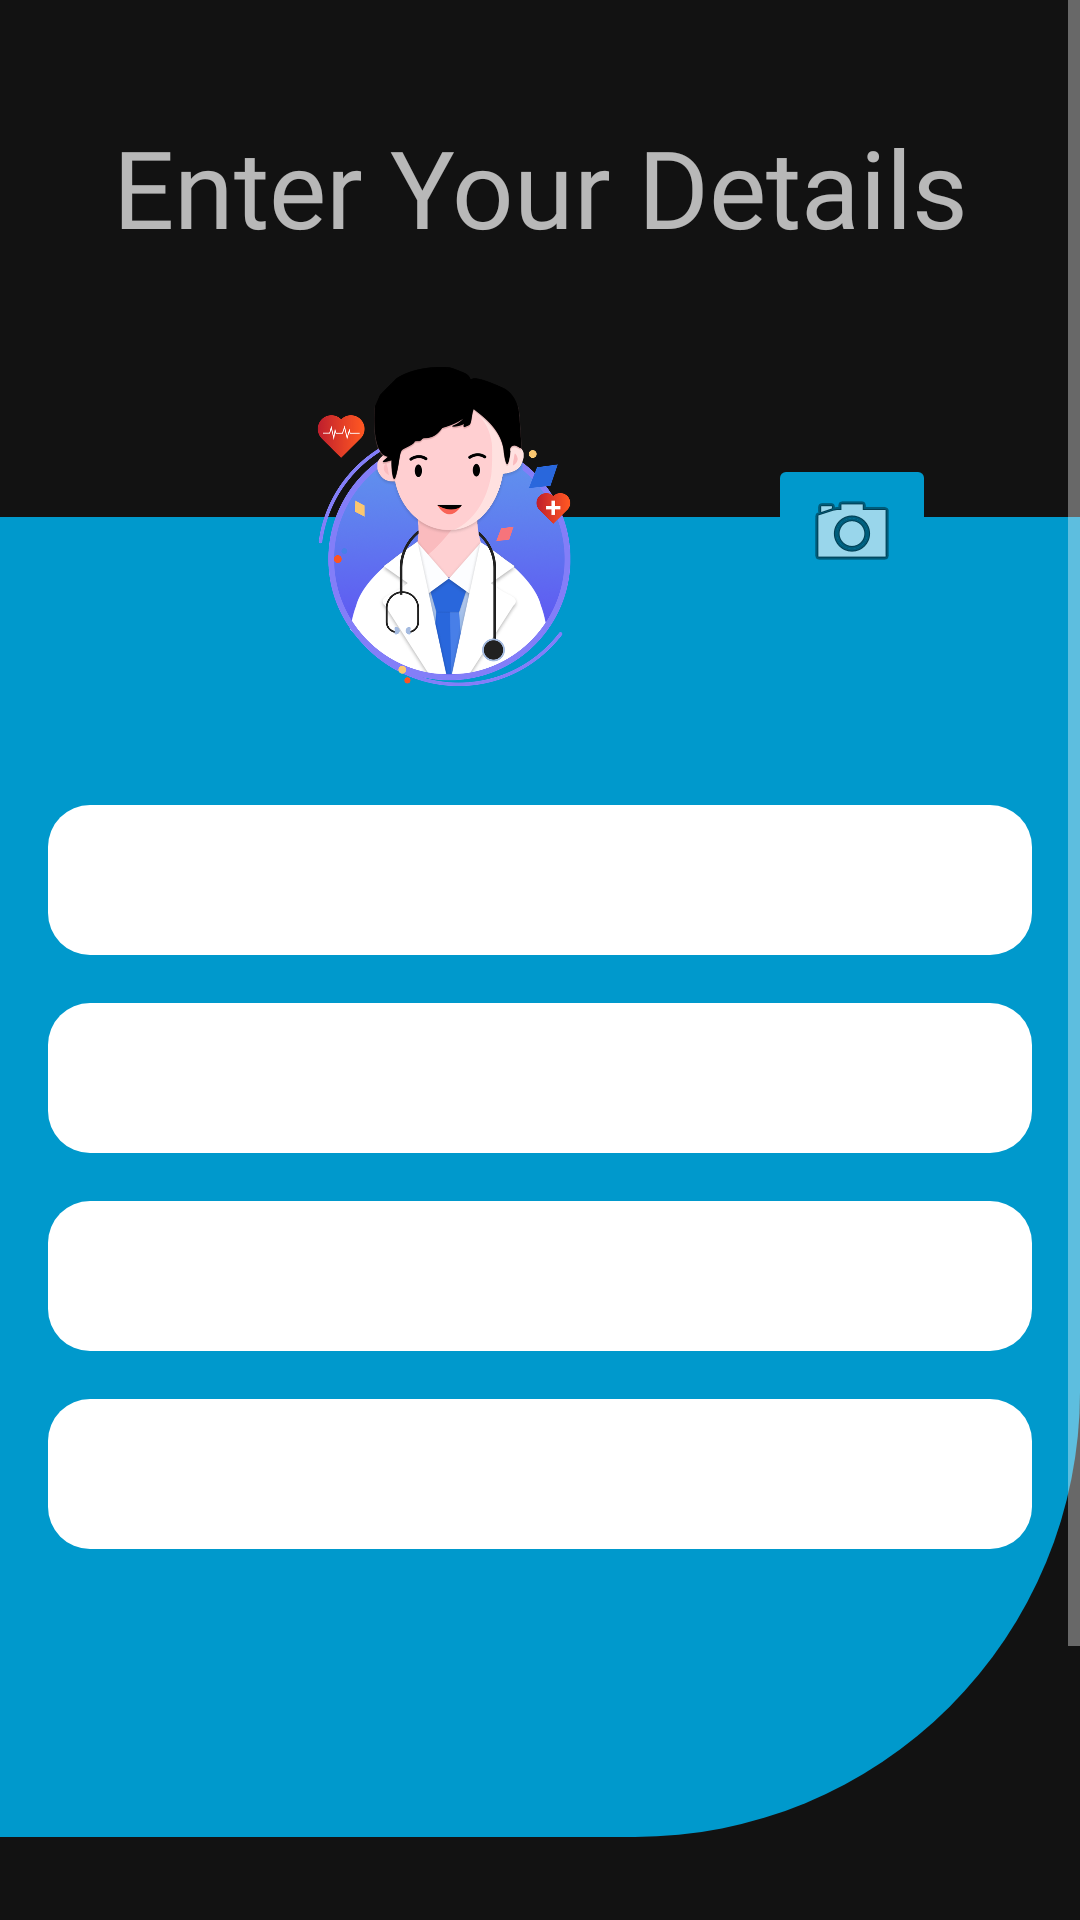

Named icons in this screenshot (1080x1920) and their centers, [x,y]:
camera: [852,532]
